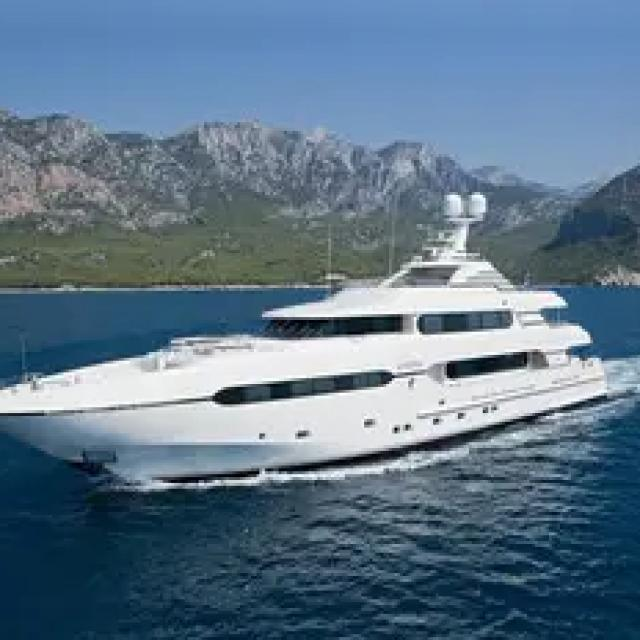houseboat: (0, 175, 610, 506)
